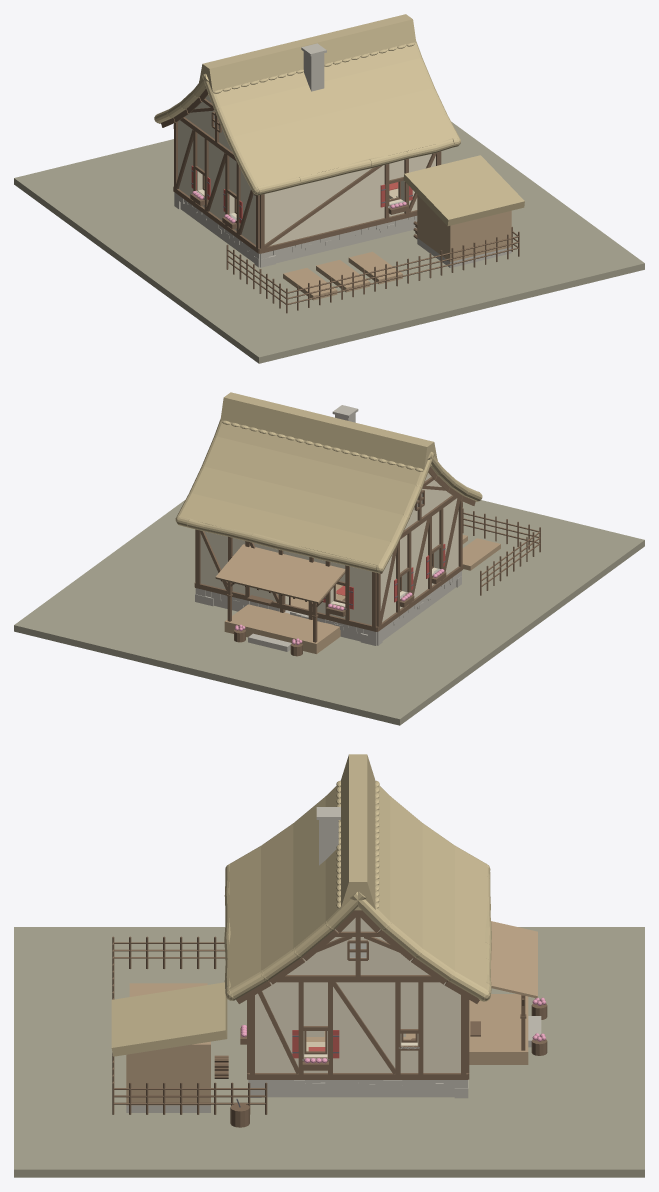
The model's file is porch-house-1717.glb.
3 renders of one model, top to bottom at view 1: azimuth 30°, elevation 25°; view 2: azimuth 150°, elevation 25°; view 3: azimuth 270°, elevation 25°, orthographic. The views are drawn at different scales.
Visible parts, largest first — view 1: zemlya__m00, krysha__m03, obolochka__m01, obolochka__m02, obolochka__m00, melochi__m02, obolochka__m09, melochi__m09, krysha__m00, obolochka__m05; view 2: zemlya__m00, krysha__m03, obolochka__m02, obolochka__m01, obolochka__m09, obolochka__m00, melochi__m02, melochi__m09; view 3: zemlya__m00, krysha__m03, obolochka__m01, obolochka__m09, obolochka__m02, melochi__m02, obolochka__m00, krysha__m02, krysha__m00, melochi__m09.
Part boxes in pixels (left/top/right/bottom): zemlya__m00: left=14, top=121, right=644, bottom=363; krysha__m03: left=154, top=14, right=524, bottom=225; obolochka__m01: left=178, top=95, right=435, bottom=245; obolochka__m02: left=173, top=98, right=441, bottom=253; obolochka__m00: left=174, top=190, right=511, bottom=267; melochi__m02: left=226, top=221, right=519, bottom=313; obolochka__m09: left=417, top=195, right=511, bottom=261; melochi__m09: left=283, top=251, right=402, bottom=300; krysha__m00: left=301, top=43, right=326, bottom=91; obolochka__m05: left=191, top=165, right=412, bottom=223; zemlya__m00: left=14, top=500, right=644, bottom=725; krysha__m03: left=175, top=392, right=482, bottom=573; obolochka__m02: left=194, top=476, right=463, bottom=642; obolochka__m01: left=200, top=473, right=458, bottom=625; obolochka__m09: left=215, top=544, right=345, bottom=653; obolochka__m00: left=195, top=568, right=461, bottom=651; melochi__m02: left=234, top=508, right=540, bottom=656; melochi__m09: left=462, top=535, right=500, bottom=570; zemlya__m00: left=14, top=927, right=644, bottom=1177; krysha__m03: left=111, top=754, right=491, bottom=1056; obolochka__m01: left=255, top=918, right=460, bottom=1072; obolochka__m09: left=126, top=921, right=537, bottom=1105; obolochka__m02: left=240, top=915, right=526, bottom=1079; melochi__m02: left=112, top=936, right=547, bottom=1127; obolochka__m00: left=126, top=1016, right=541, bottom=1112; krysha__m02: left=236, top=910, right=479, bottom=1003; krysha__m00: left=316, top=807, right=340, bottom=865; melochi__m09: left=129, top=983, right=207, bottom=996.
Size of the model in its own units: 17.63 by 7.96 by 19.39.
